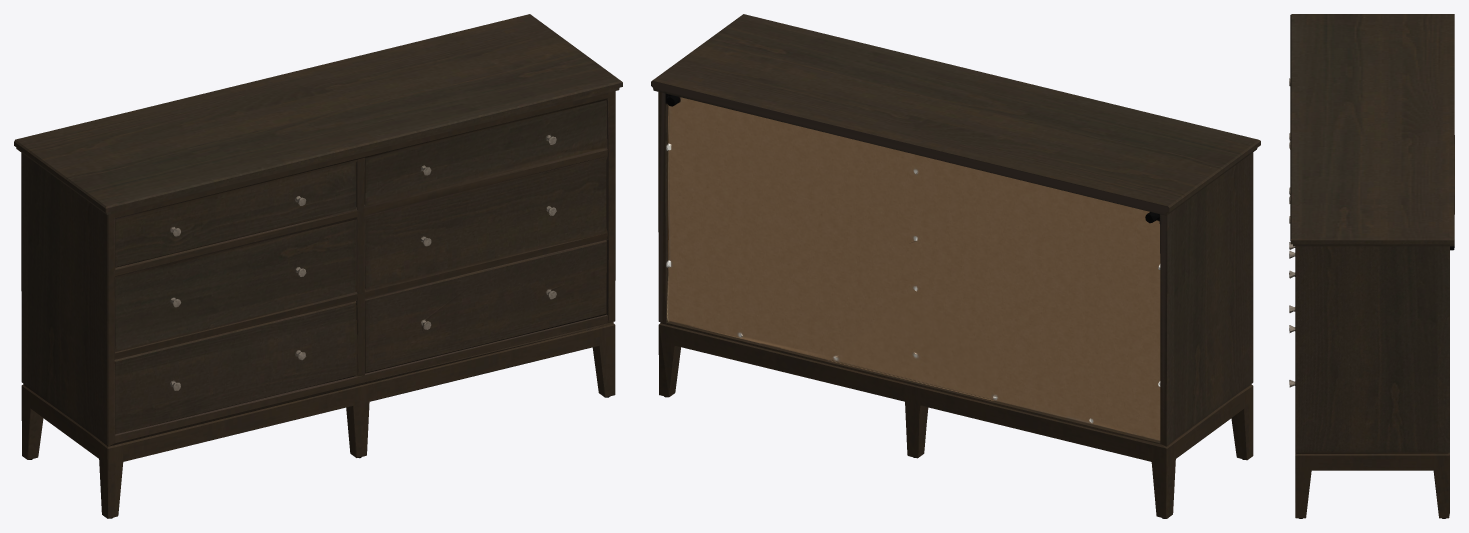
Rendered from IDANAS_drawerr.glb.
3 renders of one model, left to right at view 1: azimuth 30°, elevation 25°; view 2: azimuth 150°, elevation 25°; view 3: azimuth 270°, elevation 25°, orthographic. The views are drawn at different scales.
Visible parts, largest first — view 1: ProcessedMeshNode; view 2: ProcessedMeshNode; view 3: ProcessedMeshNode.
Part boxes in pixels (x1,y1,x2,y2): ProcessedMeshNode: [14, 14, 622, 518]; ProcessedMeshNode: [651, 14, 1260, 518]; ProcessedMeshNode: [1289, 14, 1454, 518].
Bounding box in the file's own units: 1.62 × 0.9518 × 0.5045.
Materials: 1 (1 with a texture image).
